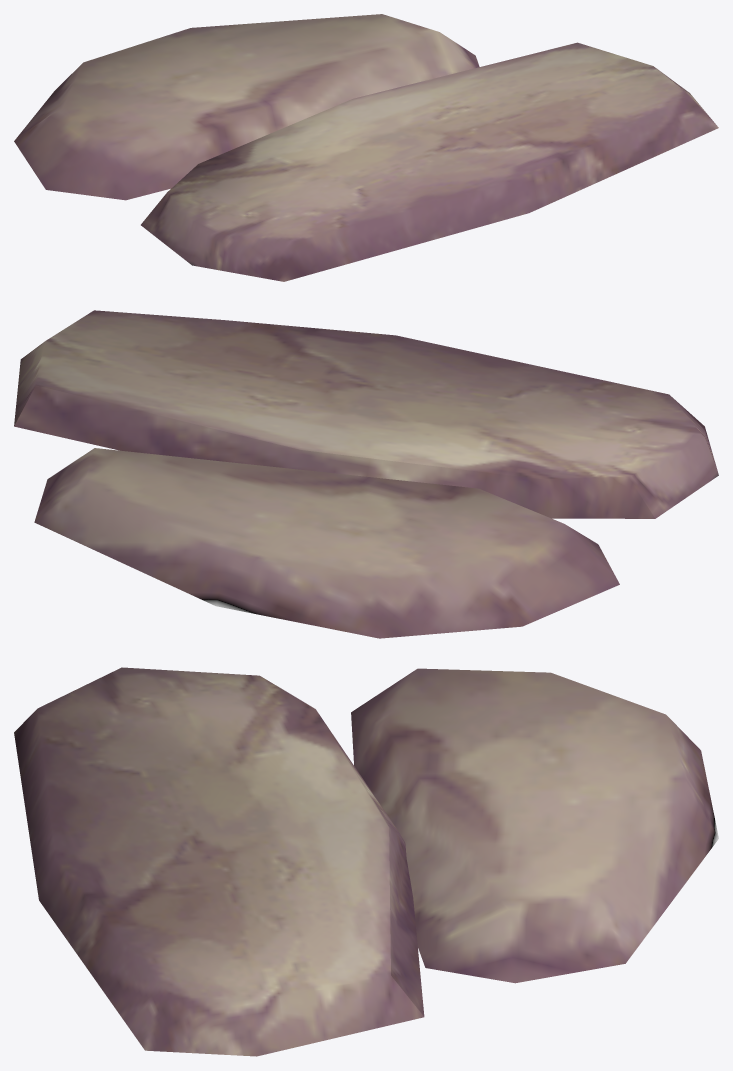
File: loyalismwood_round04.FBX
The picture shows the model from 3 angles, top to bottom: view 1: azimuth 30°, elevation 25°; view 2: azimuth 150°, elevation 25°; view 3: azimuth 270°, elevation 25°; orthographic projection. The views are drawn at different scales.
Parts seen in each view (by area): view 1: loyalismwood_round04; view 2: loyalismwood_round04; view 3: loyalismwood_round04.
Part boxes in pixels (x1,y1,x2,y2): loyalismwood_round04: [14, 14, 718, 281]; loyalismwood_round04: [14, 310, 718, 638]; loyalismwood_round04: [14, 667, 718, 1056].
Bounding box in the file's own units: 735 × 574 × 41.84.
